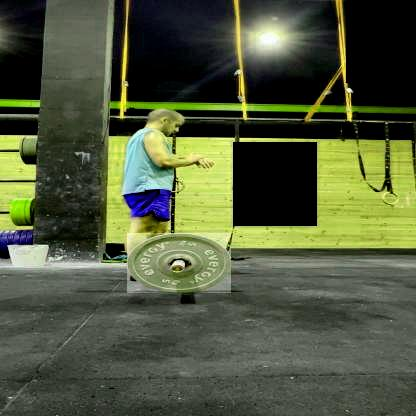barbell: (128, 234, 231, 294)
